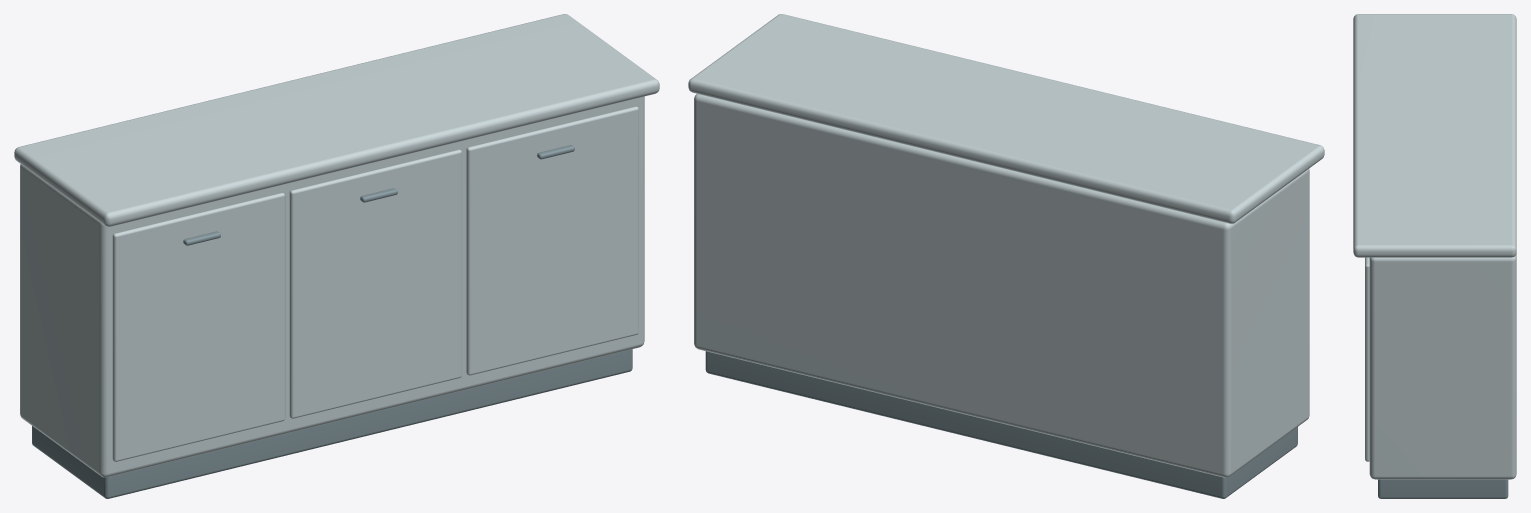
File: counter.glb
The picture shows the model from 3 angles, left to right: view 1: azimuth 30°, elevation 25°; view 2: azimuth 150°, elevation 25°; view 3: azimuth 270°, elevation 25°; orthographic projection. The views are drawn at different scales.
Visible parts, largest first — view 1: top, door_1, door_3, door_2, cabinet, plinth; view 2: cabinet, top, plinth; view 3: top, cabinet, plinth, door_3.
Part boxes in pixels (box(x1,y1,x2,y2)): top: box(14, 14, 659, 226); door_1: box(112, 192, 285, 461); door_3: box(466, 106, 638, 375); door_2: box(289, 149, 461, 418); cabinet: box(20, 96, 644, 477); plinth: box(32, 349, 632, 498); cabinet: box(694, 94, 1309, 477); top: box(688, 14, 1324, 223); plinth: box(705, 351, 1297, 498); top: box(1353, 14, 1516, 257); cabinet: box(1369, 253, 1516, 479); plinth: box(1378, 479, 1508, 498); door_3: box(1365, 257, 1369, 461).
Bounding box in the file's own units: 2.04 × 1.05 × 0.6.
